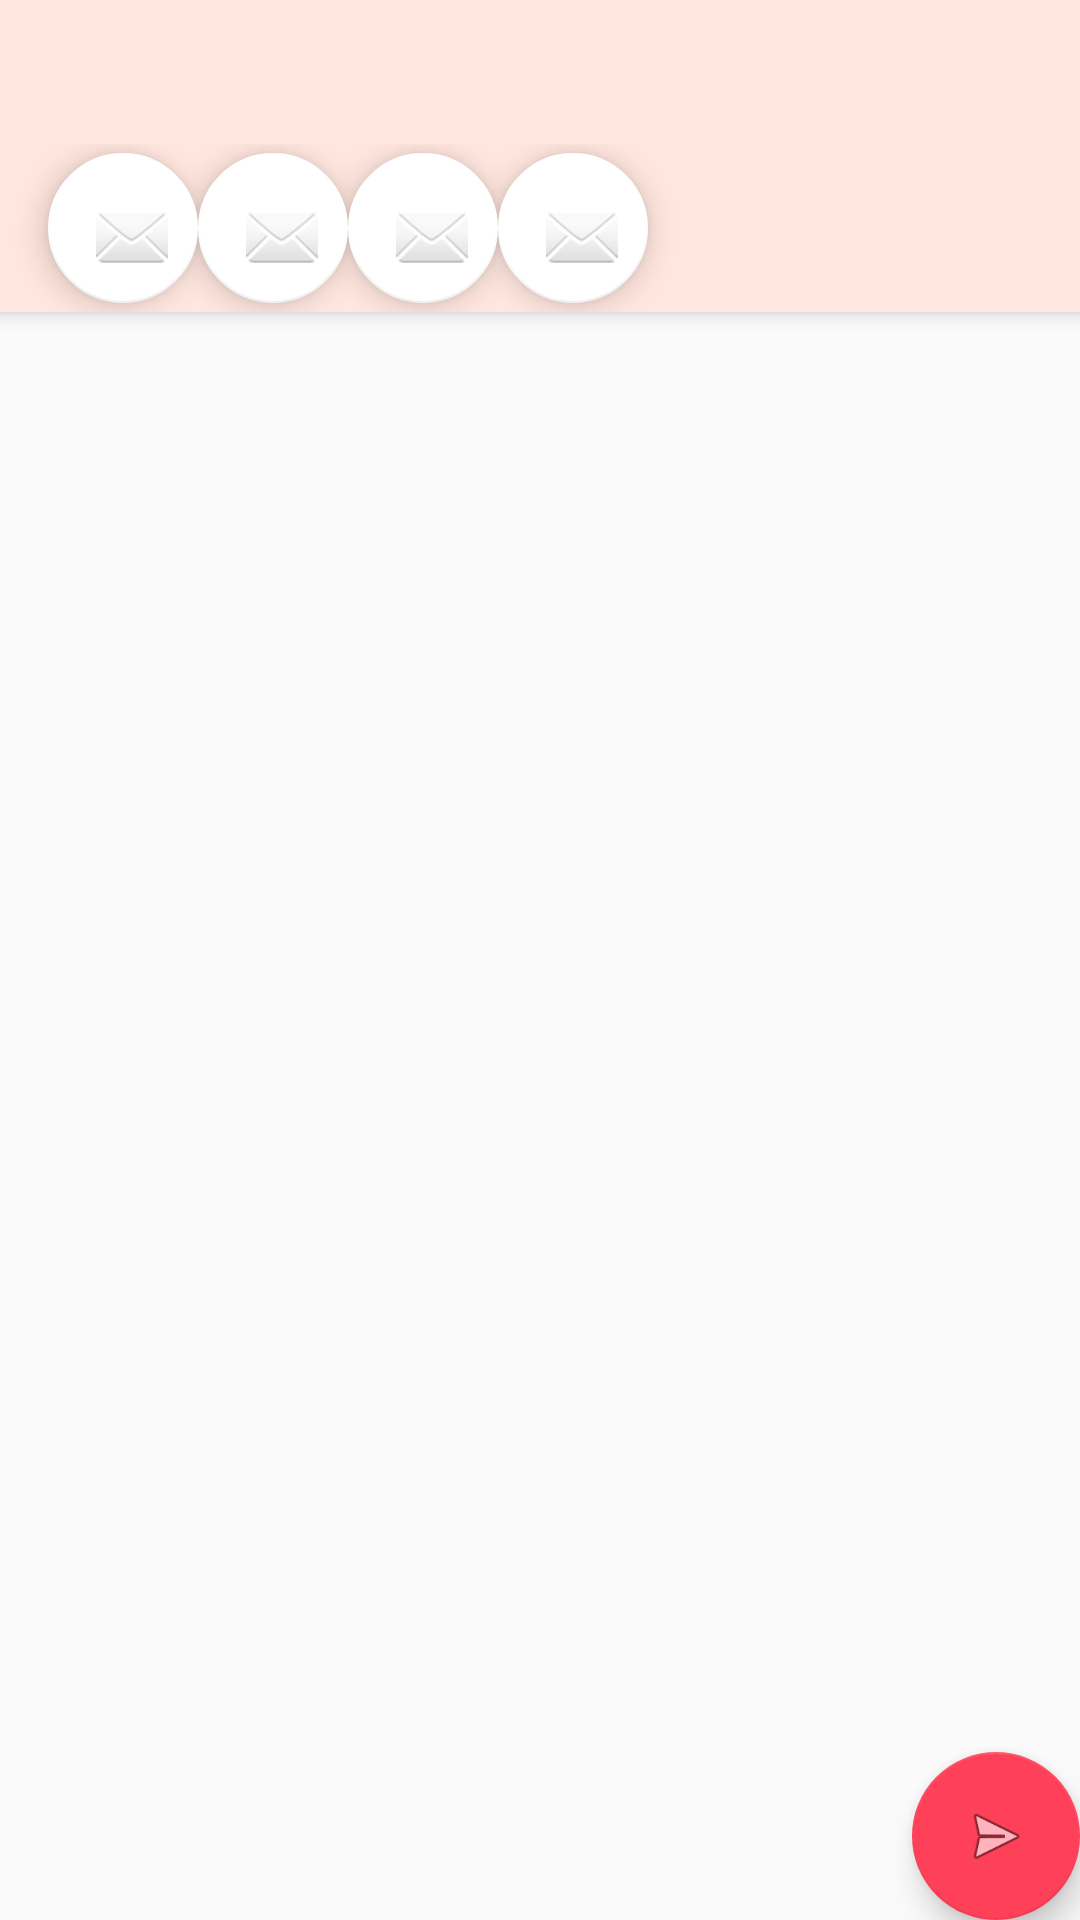

Icon bounding boxes for this 1080px×1920px phone screenshot, format (x1, y1, x2, y2):
email: (48, 153, 198, 303), (198, 153, 348, 303), (348, 153, 498, 303), (498, 153, 648, 303)
send: (912, 1752, 1080, 1920)
